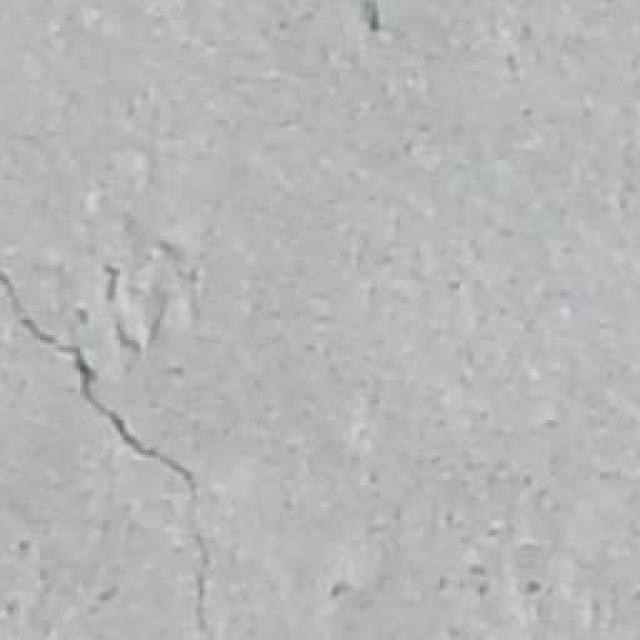concrete-crack: (0, 252, 219, 640)
